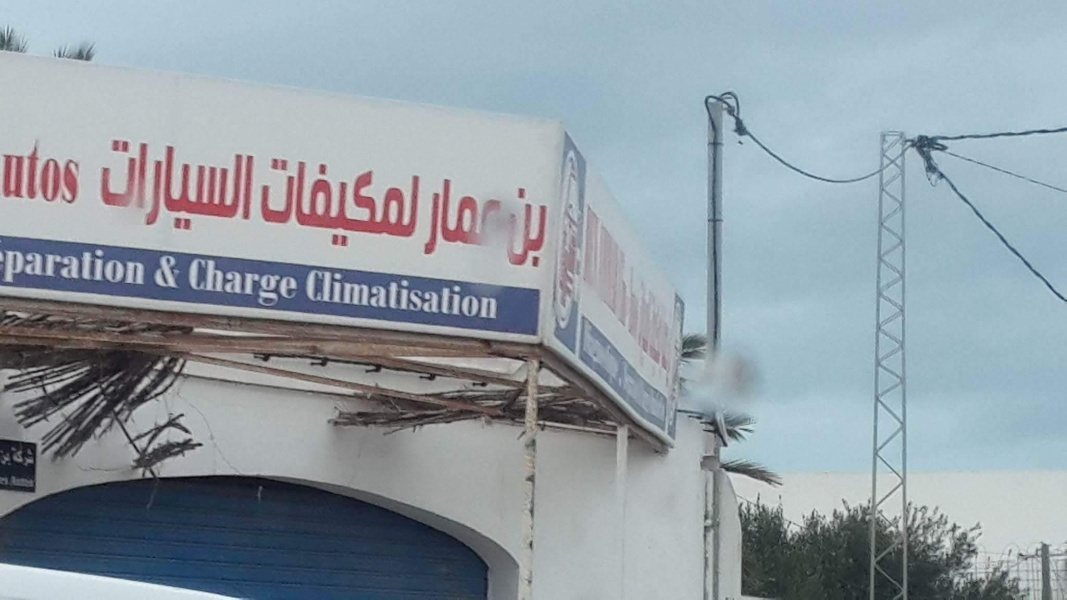text: (593, 203, 608, 390), (609, 203, 624, 390), (625, 203, 640, 390), (641, 203, 656, 390), (657, 203, 672, 390), (593, 317, 608, 426), (609, 317, 624, 426), (625, 317, 640, 426), (641, 317, 656, 426), (113, 136, 128, 242), (129, 136, 144, 242), (145, 136, 160, 242), (161, 136, 176, 242), (177, 136, 192, 242), (193, 136, 208, 242), (209, 136, 224, 242), (225, 136, 240, 242), (241, 136, 256, 242), (433, 171, 448, 274), (449, 171, 464, 274), (465, 171, 480, 274), (481, 171, 496, 274), (497, 171, 512, 274), (513, 171, 528, 274), (529, 171, 544, 274), (273, 156, 288, 256), (289, 156, 304, 256), (305, 156, 320, 256), (321, 156, 336, 256), (337, 156, 352, 256), (353, 156, 368, 256), (369, 156, 384, 256), (385, 156, 400, 256), (401, 156, 416, 256), (657, 317, 667, 426), (17, 136, 32, 208), (33, 136, 48, 208), (49, 136, 64, 208), (65, 136, 80, 208), (2, 136, 16, 208), (103, 136, 112, 242), (587, 203, 592, 390), (545, 171, 554, 274), (193, 255, 208, 311), (209, 255, 224, 311), (225, 255, 240, 311), (241, 255, 256, 311), (257, 255, 272, 311), (273, 255, 288, 311), (289, 255, 304, 311), (17, 241, 32, 295), (33, 241, 48, 295), (49, 241, 64, 295), (65, 241, 80, 295), (81, 241, 96, 295), (97, 241, 112, 295), (113, 241, 128, 295), (129, 241, 144, 295), (321, 267, 336, 320), (337, 267, 352, 320), (353, 267, 368, 320), (369, 267, 384, 320), (385, 267, 400, 320), (401, 267, 416, 320), (417, 267, 432, 320), (433, 267, 448, 320), (449, 267, 464, 320), (465, 267, 480, 320), (481, 267, 496, 320), (585, 317, 592, 426), (265, 156, 272, 256), (417, 156, 424, 256), (308, 267, 320, 320), (161, 253, 176, 292), (17, 444, 32, 469), (1, 446, 16, 468), (10, 241, 16, 295), (81, 136, 85, 208), (177, 253, 184, 292), (145, 241, 150, 295), (154, 253, 160, 292), (17, 474, 32, 489), (257, 136, 259, 242), (497, 267, 501, 320), (189, 255, 192, 311), (10, 444, 16, 469), (9, 474, 16, 489), (431, 171, 432, 274), (33, 444, 36, 469), (33, 474, 36, 489)
